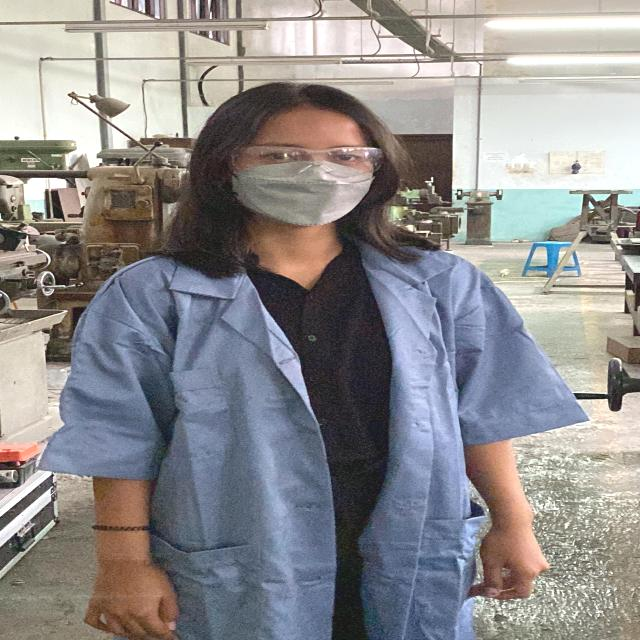face_mask: (225, 143, 386, 229)
glasses: (218, 144, 393, 178)
hand_noglove: (63, 564, 197, 640), (457, 522, 556, 605)
head_nohelmet: (213, 76, 385, 136)
person: (60, 84, 572, 639)
